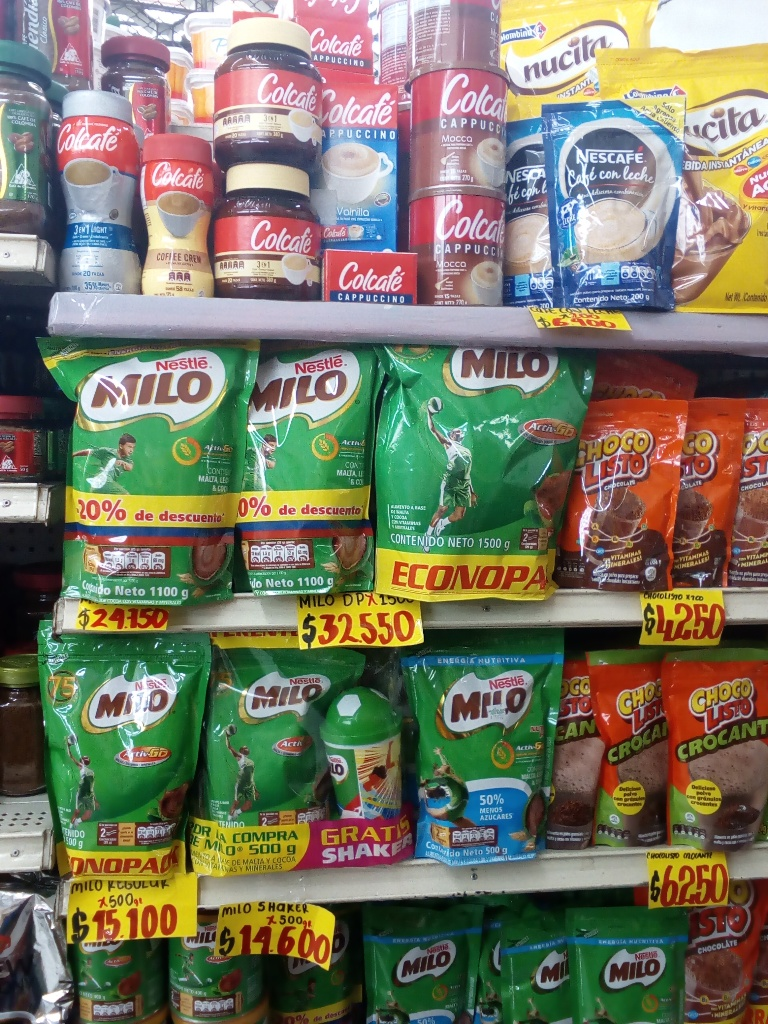COL0170102DYP25000: (666, 651, 766, 845)
COL0170203DYP50000: (201, 638, 329, 825)
COL0170203LAT40000: (171, 919, 263, 1017)
COL0170205DYP20000: (568, 911, 684, 1022)
COL0170205DYP50000: (404, 629, 559, 869)
